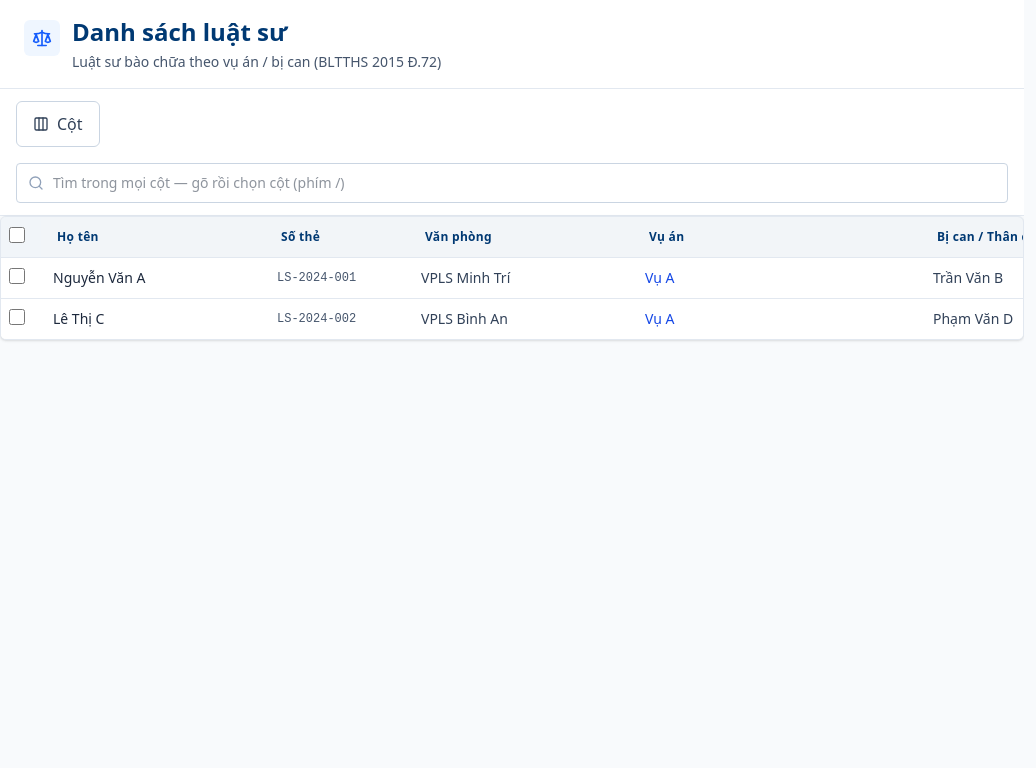
Scenario: LawyerListPageShell — bulk selection (plan PR4 mandatory) › toggle row twice → back to 0 selected (no BulkActionBar)
The image size is (1036, 768).
Expected: the text "Nguyễn Văn A" is shown, x1=41 y1=258 x2=265 y2=298
Click the checkbox named "Chọn luật sư Nguyễn Văn A" at [17, 276], box x1=9 y1=268 x2=25 y2=284
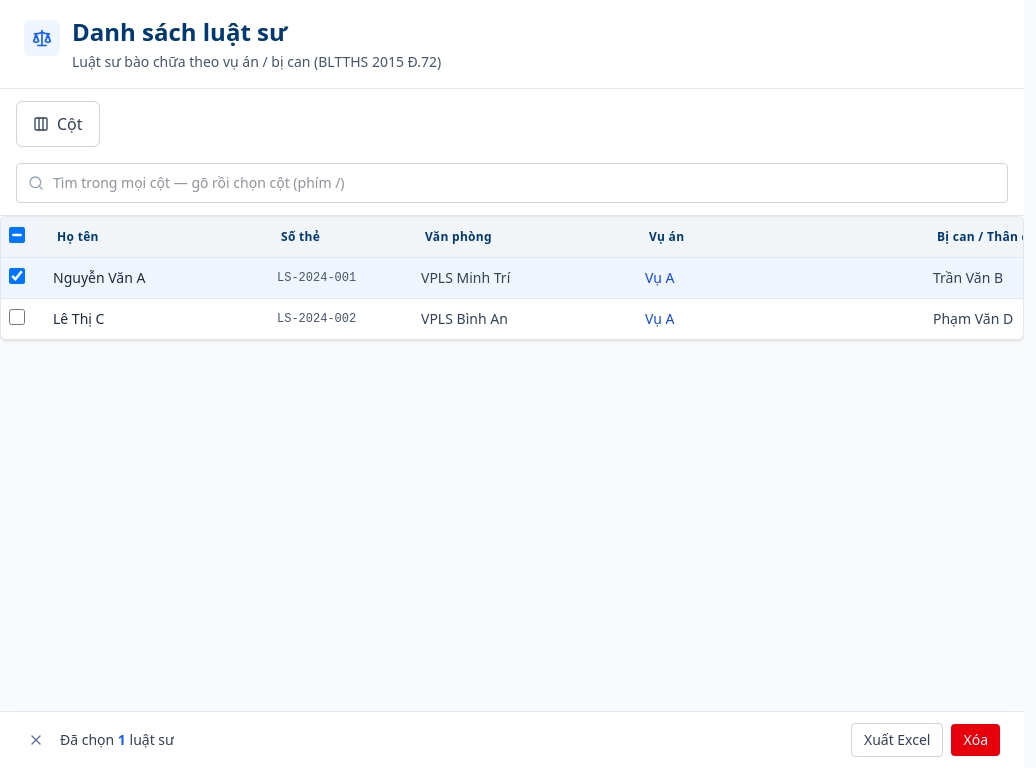
Click the checkbox named "Chọn luật sư Nguyễn Văn A" at [17, 276], box x1=9 y1=268 x2=25 y2=284
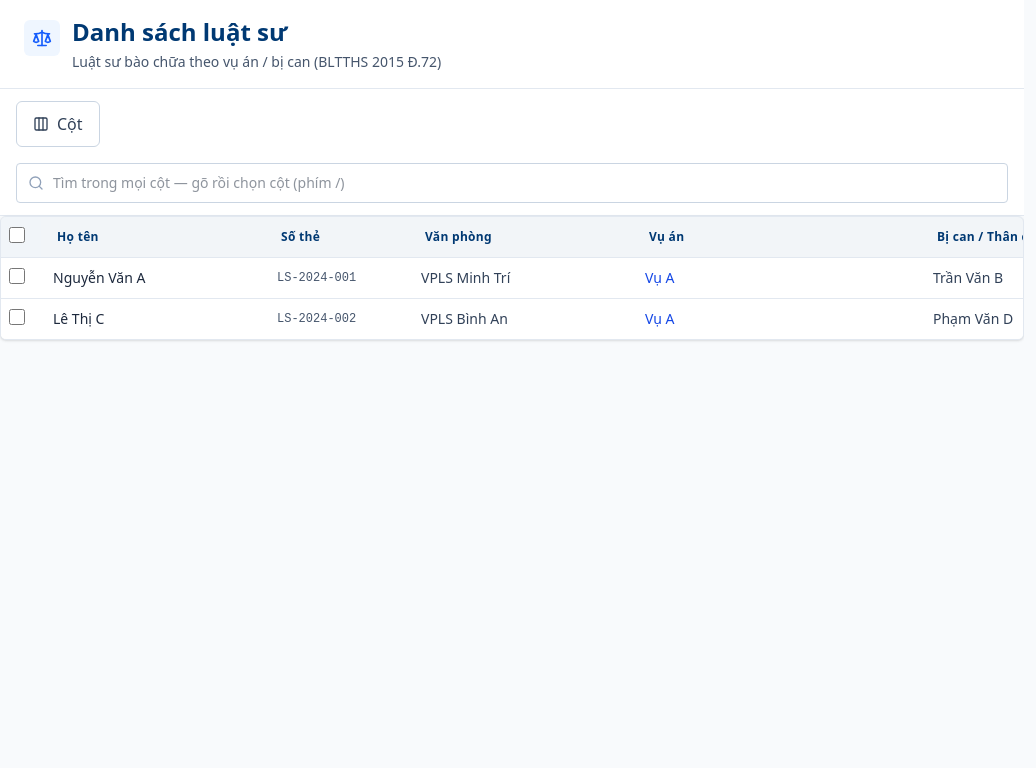
Result: the text "Đã chọn" is gone
